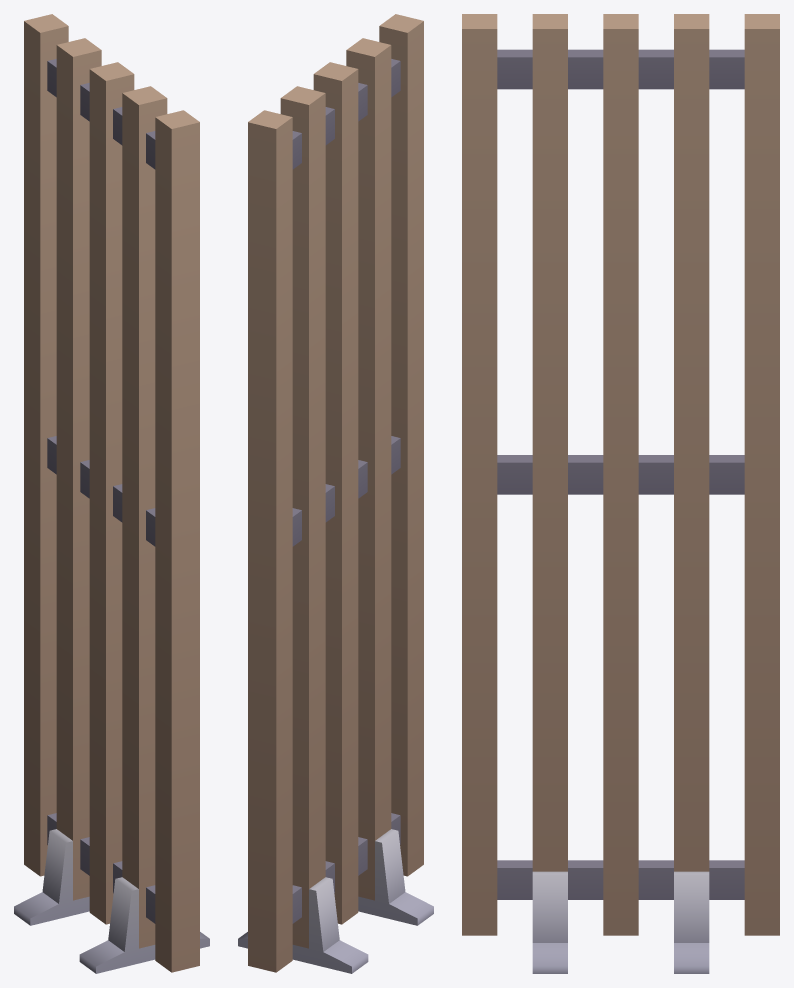
File: room-divider-wood.glb
3 renders of one model, left to right at view 1: azimuth 30°, elevation 25°; view 2: azimuth 150°, elevation 25°; view 3: azimuth 270°, elevation 25°, orthographic. The views are drawn at different scales.
Parts seen in each view (by area): view 1: room-divider-wood; view 2: room-divider-wood; view 3: room-divider-wood.
Boxes of the visible parts, <box> form: room-divider-wood: <box>14,14,209,973</box>; room-divider-wood: <box>238,14,433,973</box>; room-divider-wood: <box>462,14,779,973</box>.
Bounding box in the file's own units: 0.24 × 1.73 × 0.54.
